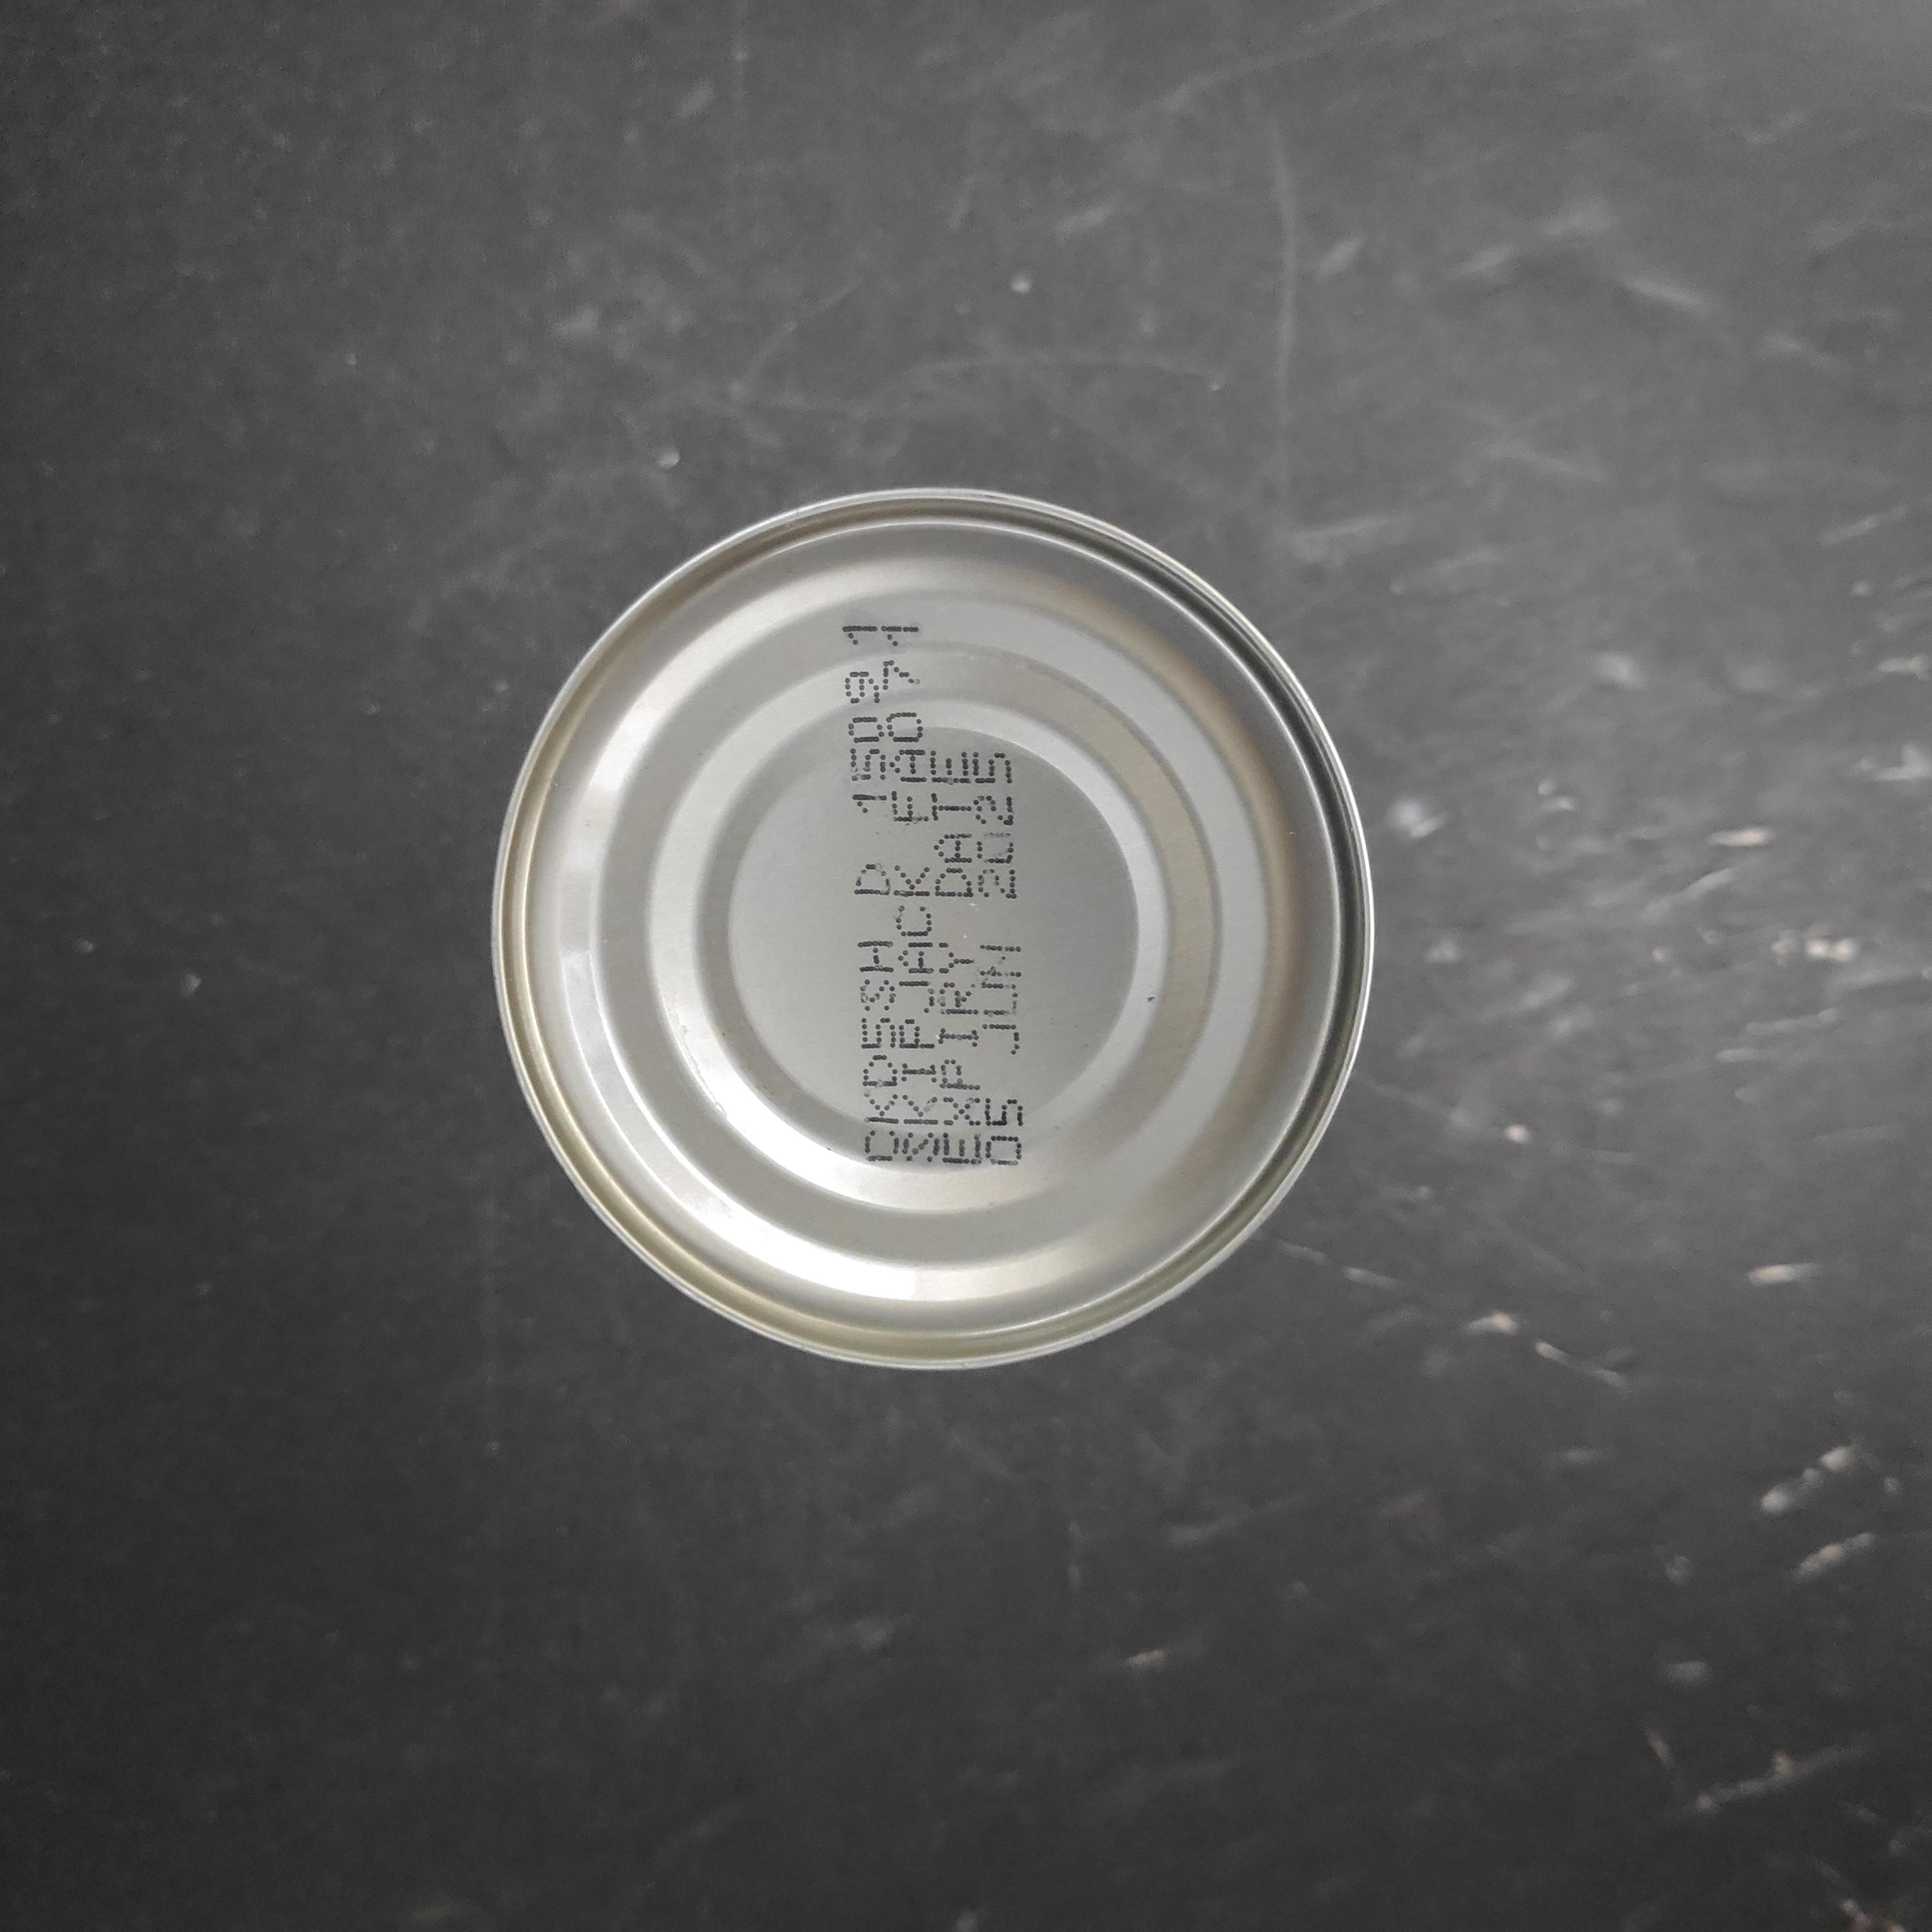No defect: (547, 541, 1460, 1474)
